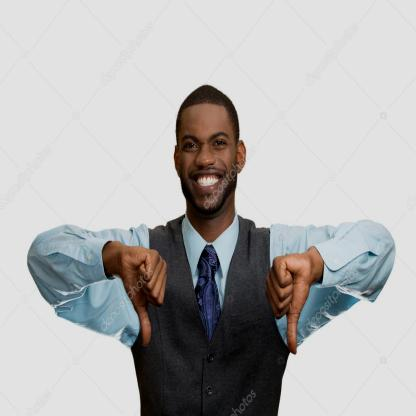Thumbs Down: (109, 235, 170, 350), (265, 253, 324, 356)
